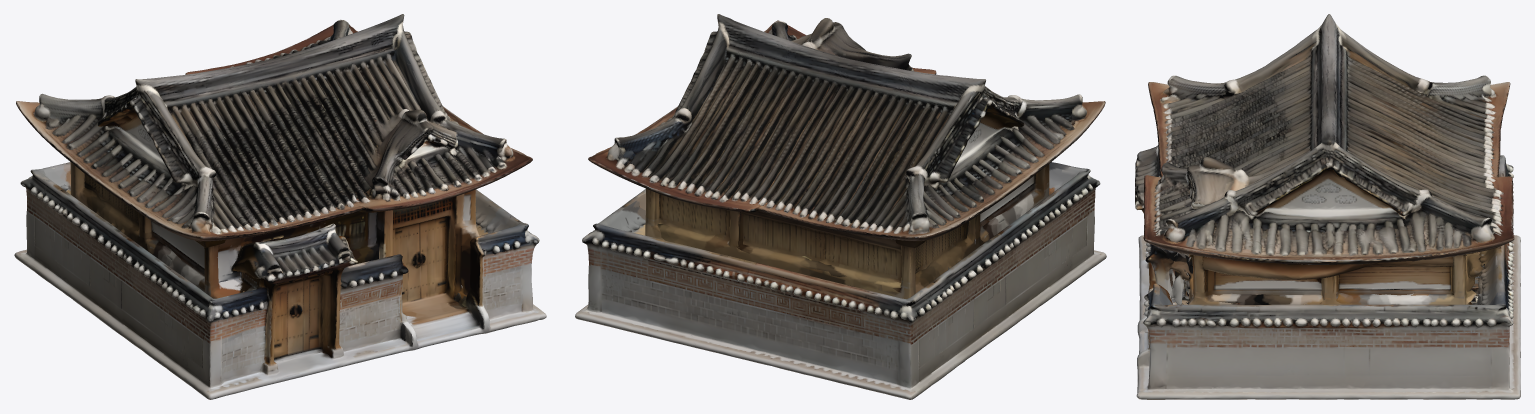
Rendered from Korean Hanok Model.fbx.
3 renders of one model, left to right at view 1: azimuth 30°, elevation 25°; view 2: azimuth 150°, elevation 25°; view 3: azimuth 270°, elevation 25°, orthographic. The views are drawn at different scales.
Parts seen in each view (by area): view 1: input; view 2: input; view 3: input.
Boxes of the visible parts, x1,y1,x2,y2 form: input: (14,14,546,399); input: (575,14,1106,399); input: (1135,14,1520,399).
Bounding box in the file's own units: 99.94 × 67.92 × 99.36.
Materials: 1 (1 with a texture image).
